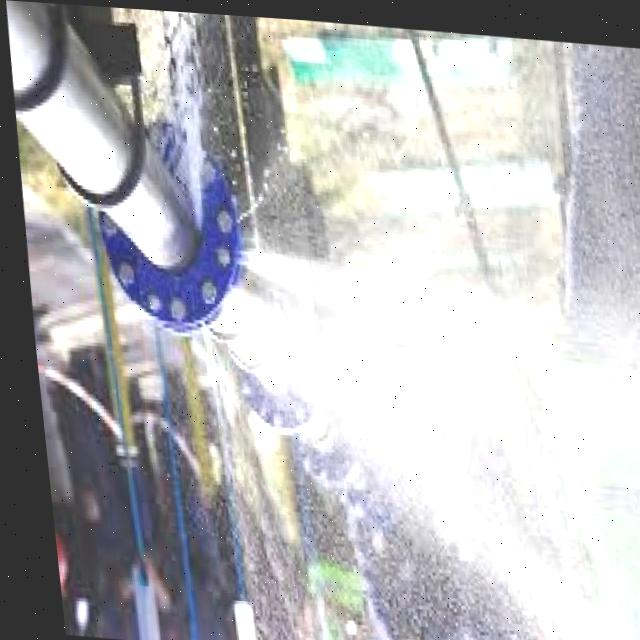corrosion: (96, 159, 341, 421)
